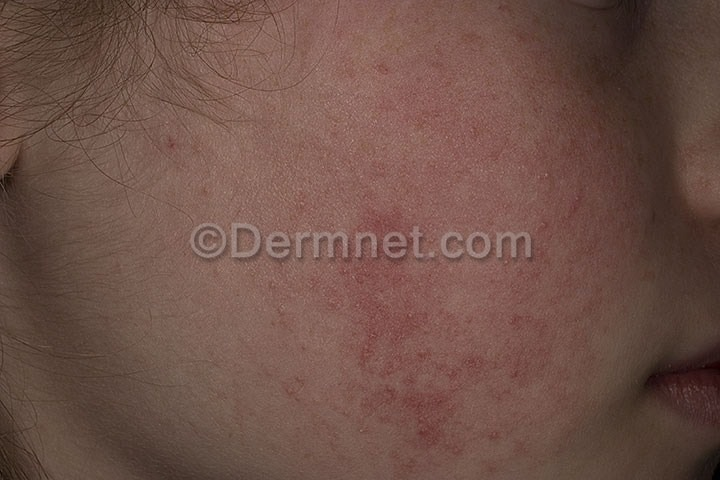Eczema: (242, 31, 648, 478)
